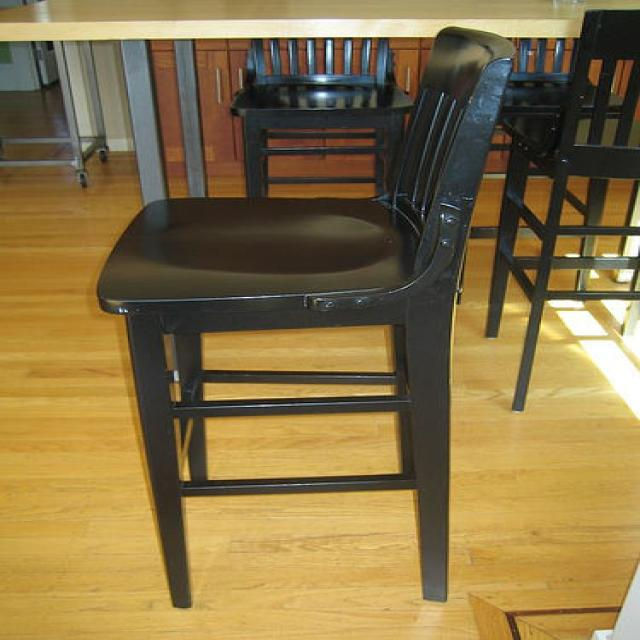chair: (94, 21, 521, 611)
